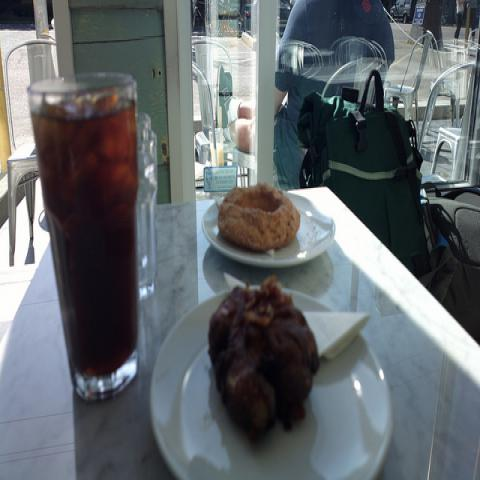car: (390, 0, 417, 24), (279, 0, 294, 18)
